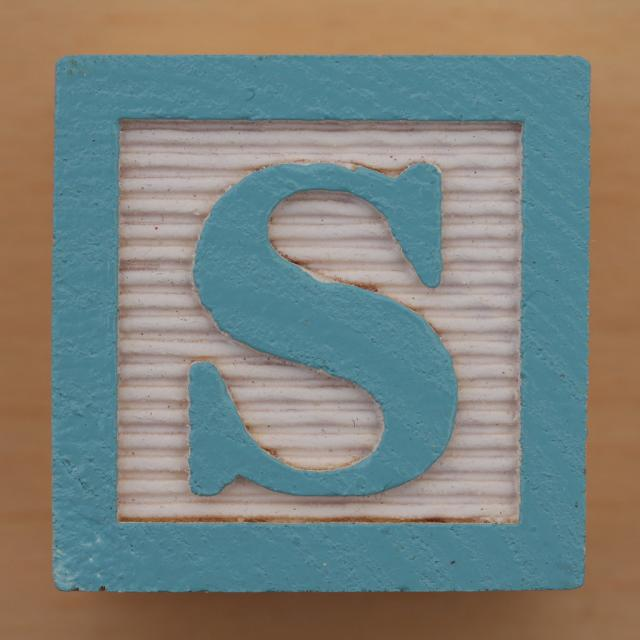S: (147, 151, 482, 507)
